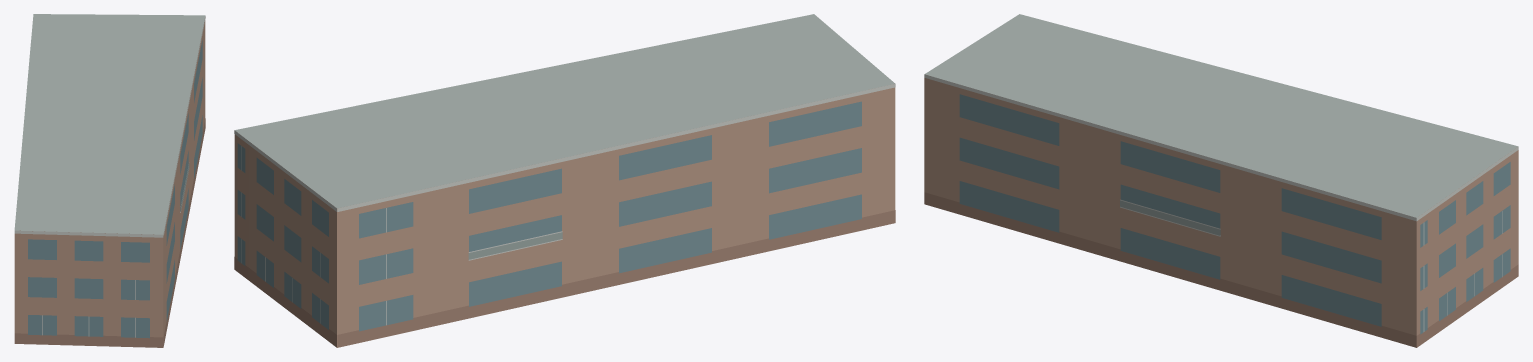
Rendered from survey-upis-32933208.glb.
3 views of the same model, side by side, from view 1: azimuth 30°, elevation 25°; view 2: azimuth 150°, elevation 25°; view 3: azimuth 270°, elevation 25° (orthographic). The views are drawn at different scales.
Parts seen in each view (by area): view 1: survey-upis-32933208.tmp; view 2: survey-upis-32933208.tmp; view 3: survey-upis-32933208.tmp.
Boxes of the visible parts, x1,y1,x2,y2 form: survey-upis-32933208.tmp: (14, 14, 205, 347); survey-upis-32933208.tmp: (234, 14, 895, 347); survey-upis-32933208.tmp: (924, 14, 1518, 347).
Bounding box in the file's own units: 30.78 × 9.15 × 37.9.
